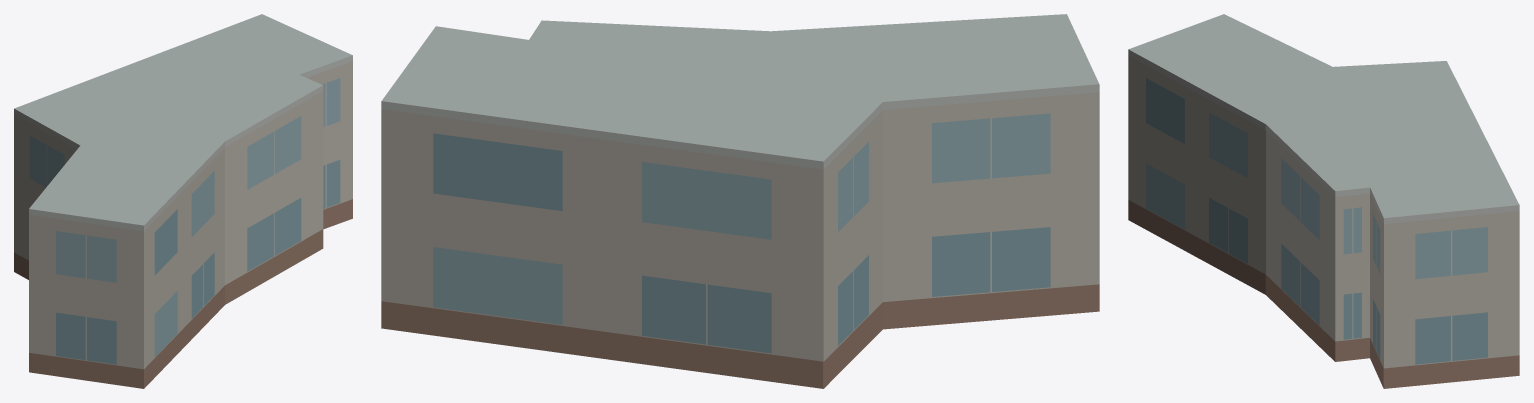
File: survey-upis-32807867.glb
3 views of the same model, side by side, from view 1: azimuth 30°, elevation 25°; view 2: azimuth 150°, elevation 25°; view 3: azimuth 270°, elevation 25° (orthographic). The views are drawn at different scales.
Visible parts, largest first — view 1: survey-upis-32807867.tmp; view 2: survey-upis-32807867.tmp; view 3: survey-upis-32807867.tmp.
Boxes of the visible parts, bbox=[...] form: survey-upis-32807867.tmp: bbox=[14, 14, 352, 388]; survey-upis-32807867.tmp: bbox=[381, 14, 1099, 388]; survey-upis-32807867.tmp: bbox=[1128, 14, 1519, 388].
Bounding box in the file's own units: 17.71 × 6.9 × 14.35.
